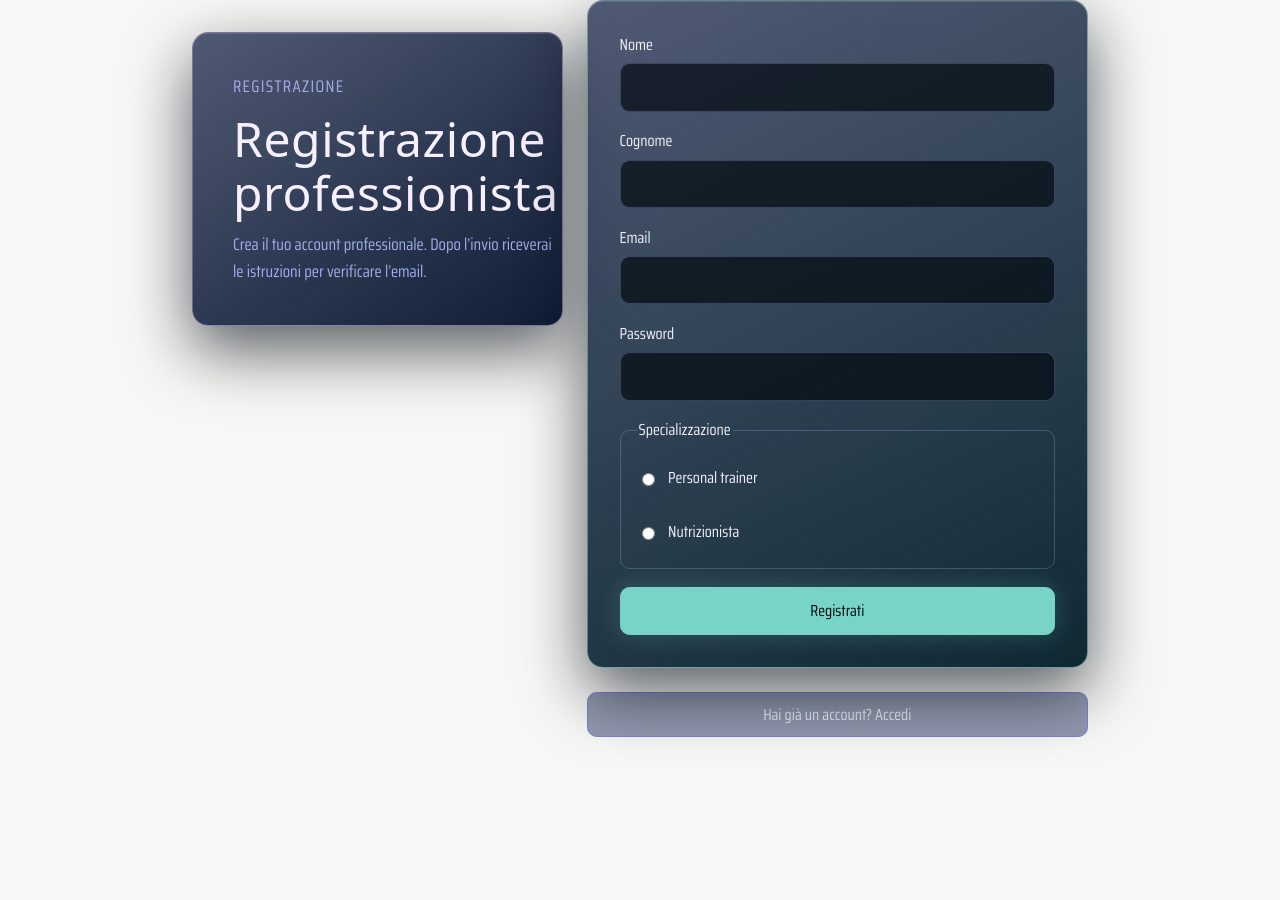
Test: RegisterProfessionalPage › mappa fieldErrors multipli
Type "Ada" into the field labelled "Nome".
click(837, 88); type("Ada")  # box top-left (620, 63), bottom-right (1055, 112)
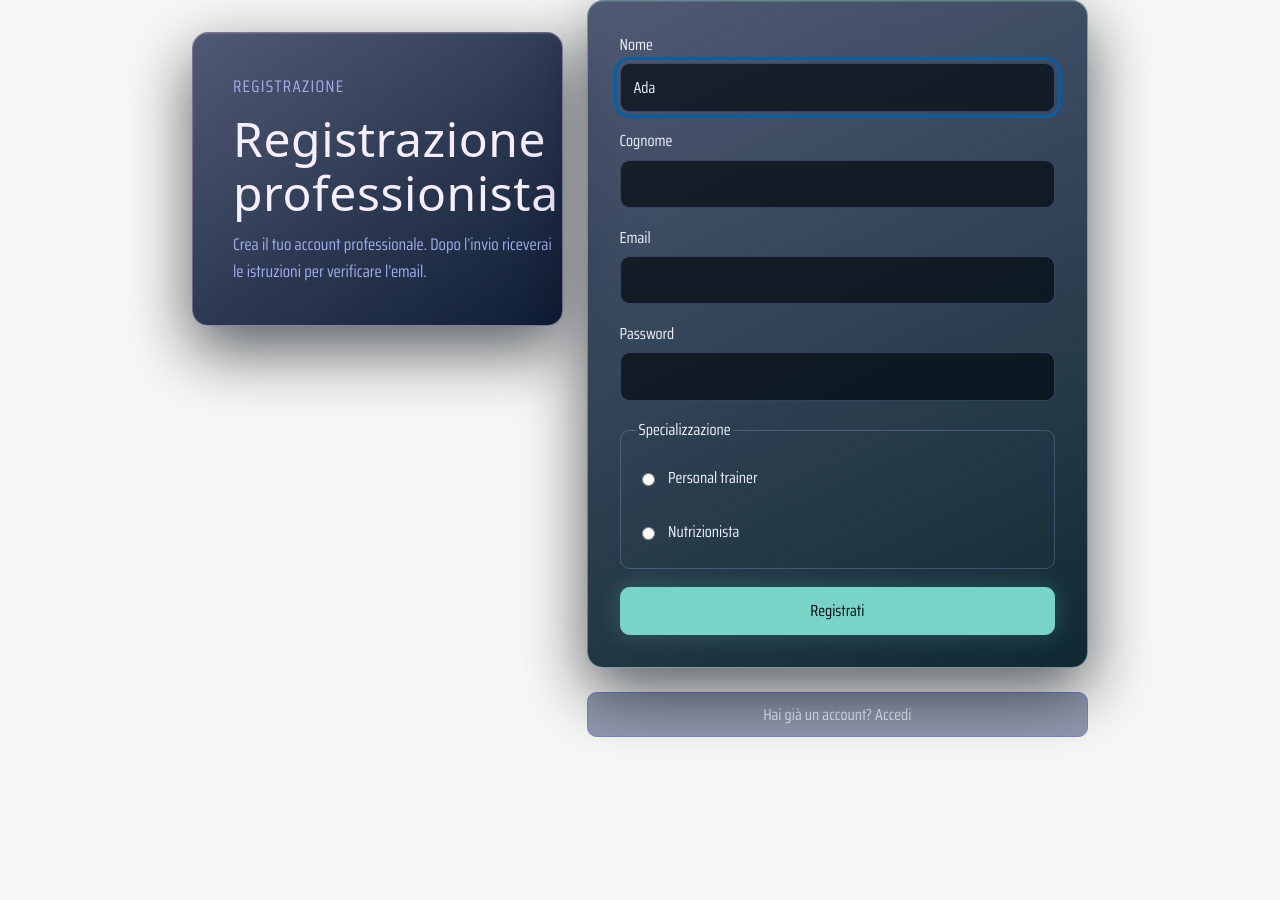
Type "Lovelace" into the field labelled "Cognome".
click(837, 184); type("Lovelace")  # box top-left (620, 160), bottom-right (1055, 208)
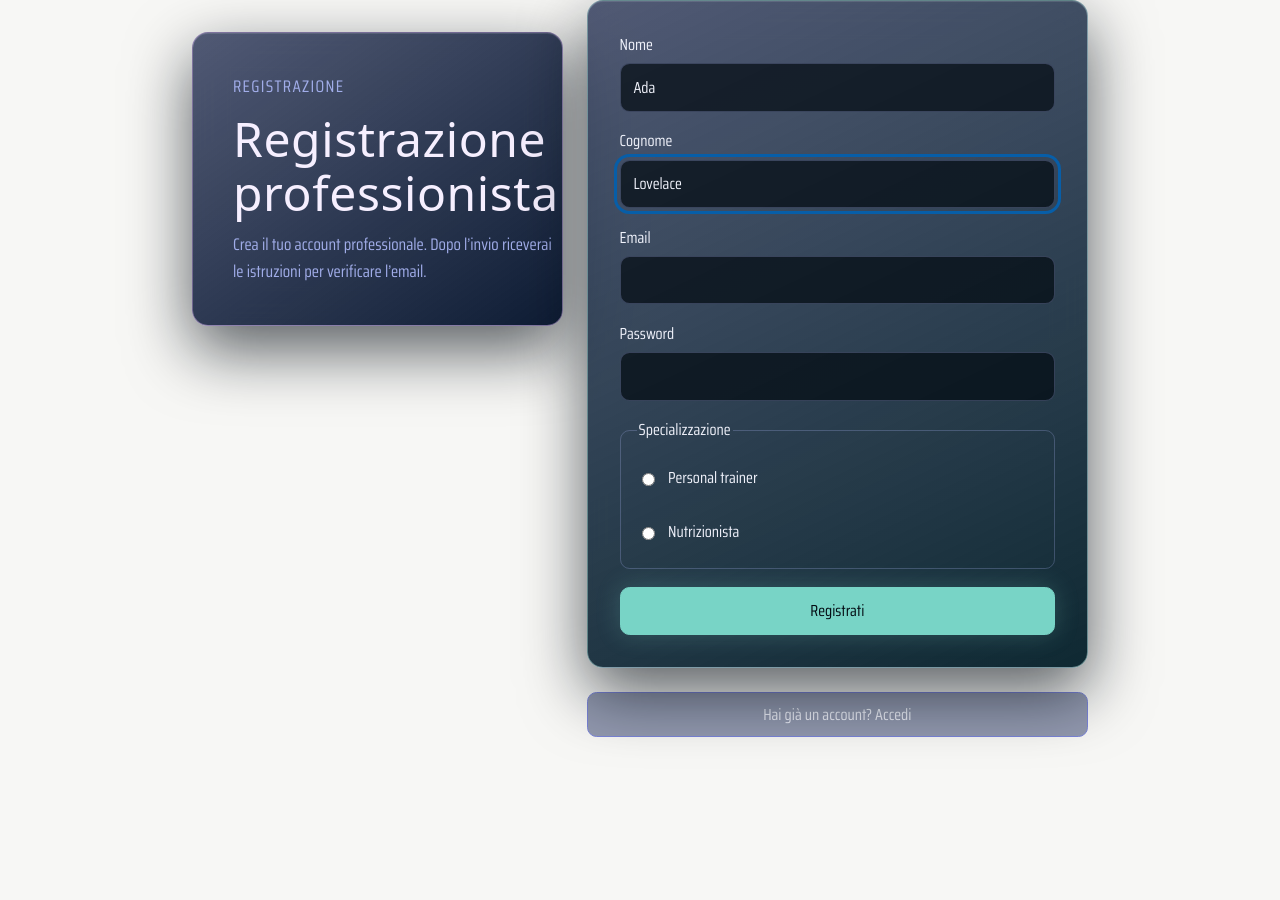
Type "ada@example.com" into the field labelled "Email".
click(837, 280); type("ada@example.com")  # box top-left (620, 256), bottom-right (1055, 304)
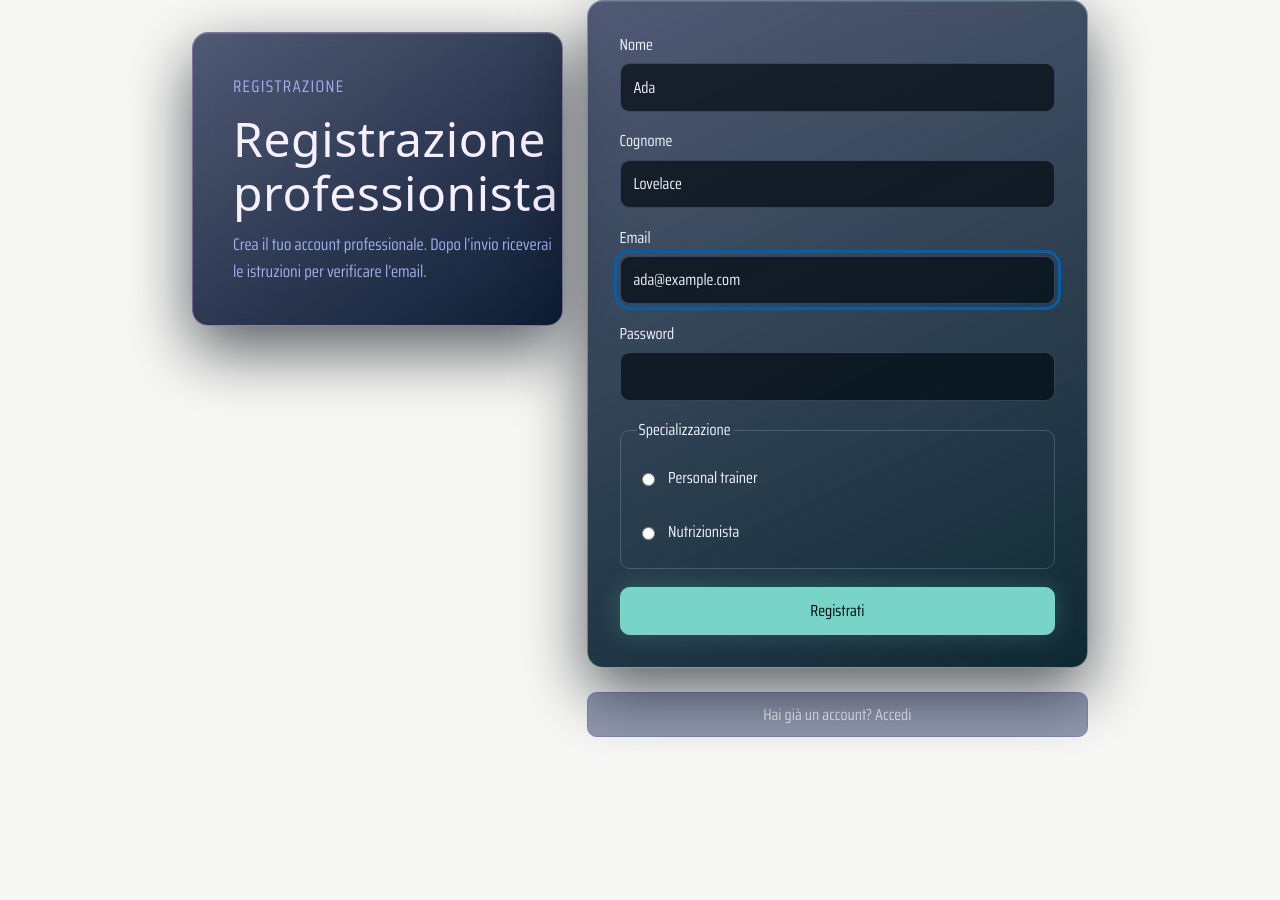
Type "Password1!" into the password field labelled "Password".
click(837, 377); type("Password1!")  # box top-left (620, 352), bottom-right (1055, 401)
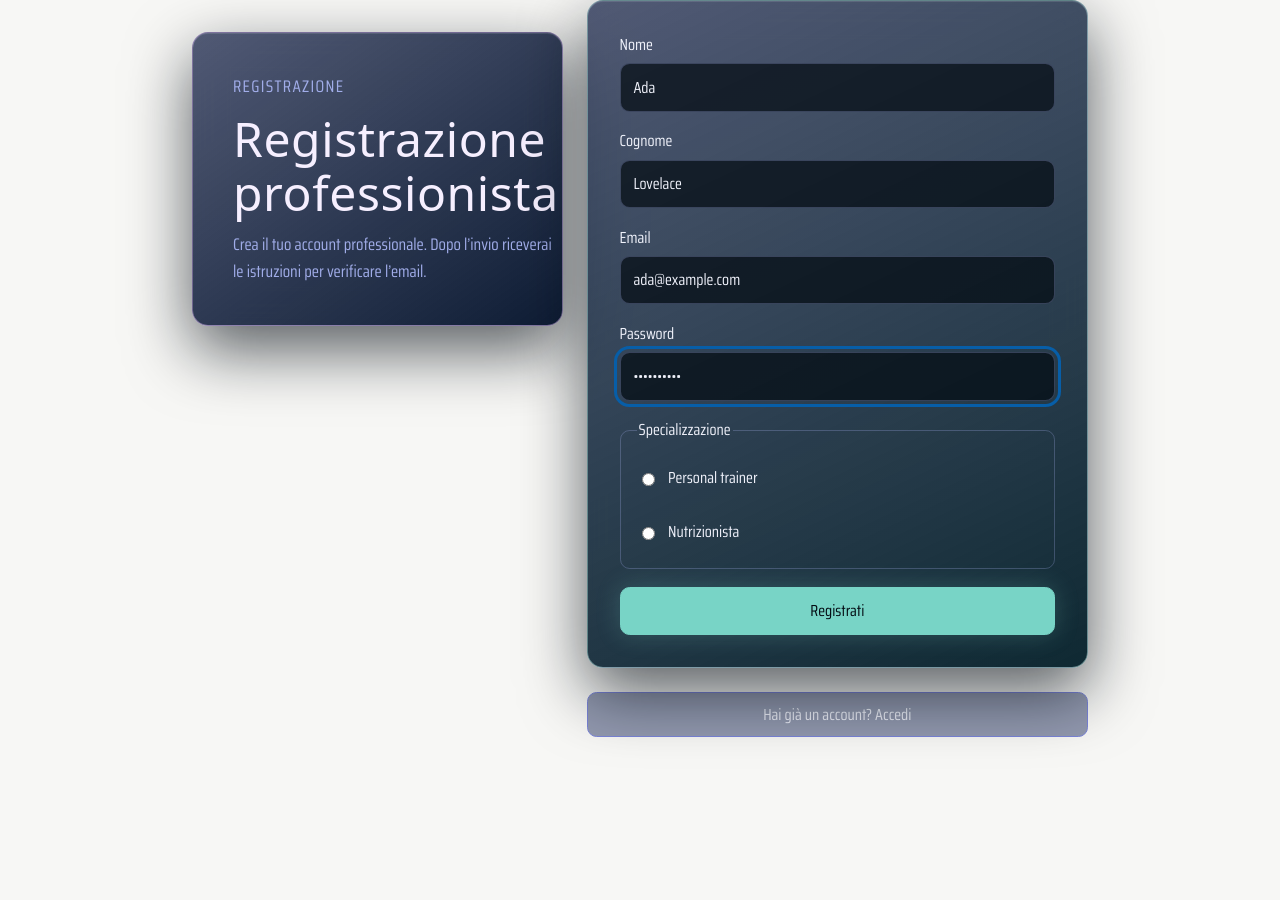
Click the radio button labelled "Personal trainer".
click(648, 480)  # box top-left (642, 473), bottom-right (655, 486)
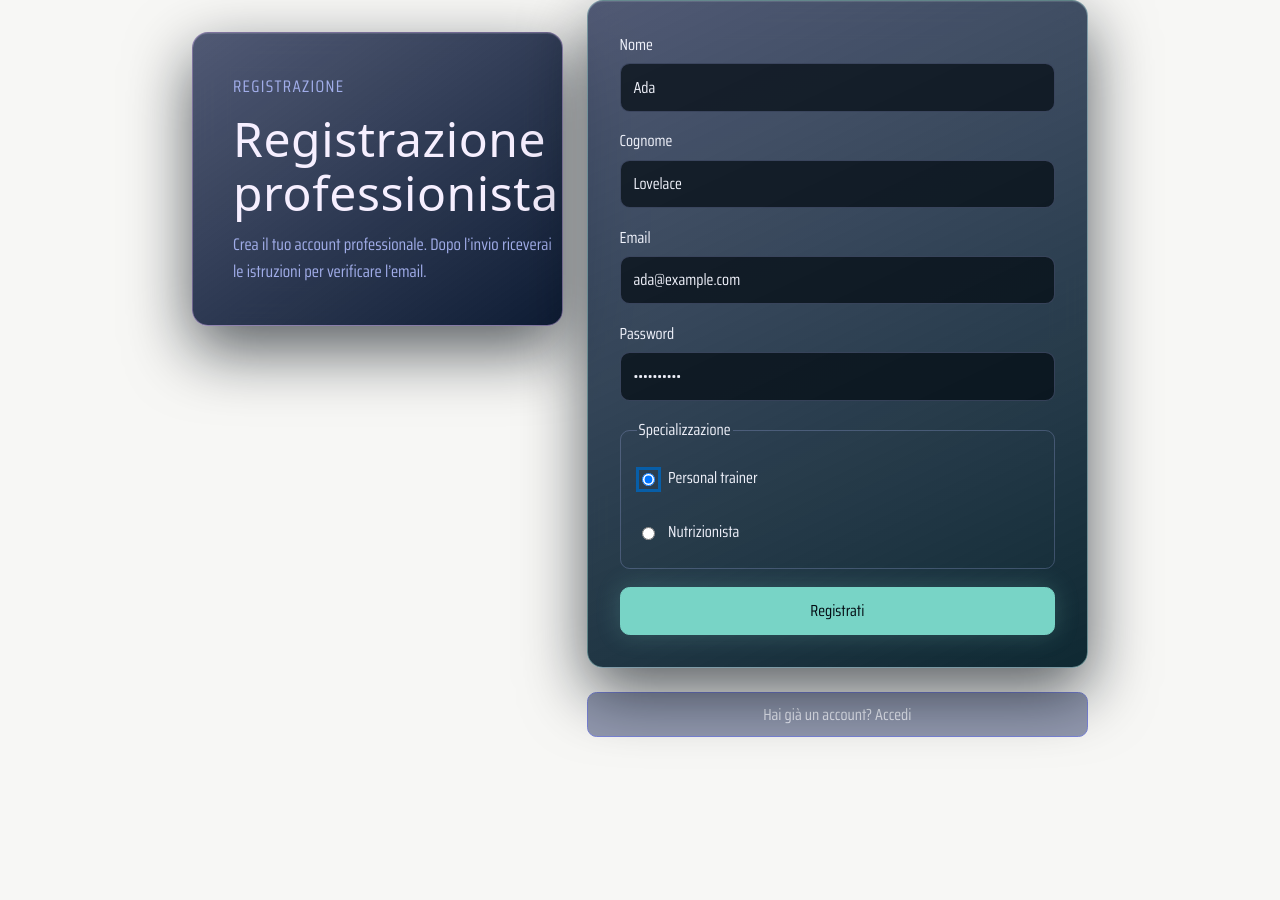
Click the button "Registrati".
click(837, 611)  # box top-left (620, 587), bottom-right (1055, 635)
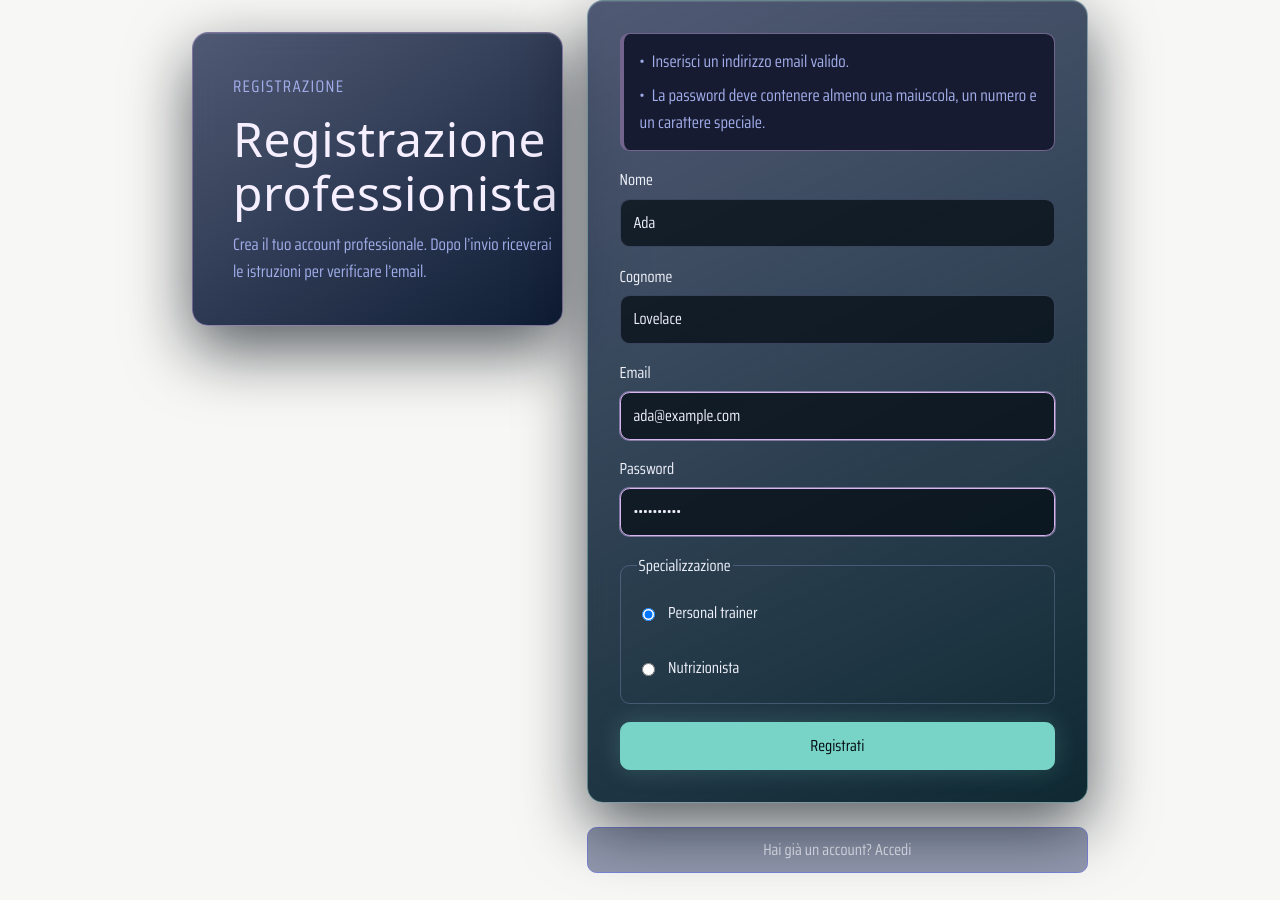
Now the text "Inserisci un indirizzo email valido." is shown, box top-left (652, 48), bottom-right (849, 74)
Now the text "maiuscola, un numero e un carattere speciale" is shown, box top-left (640, 82), bottom-right (1037, 135)
